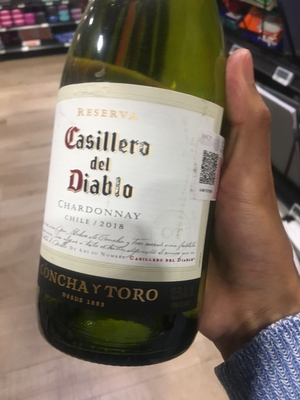casillero del diablo chardonnay: (34, 19, 225, 380)
